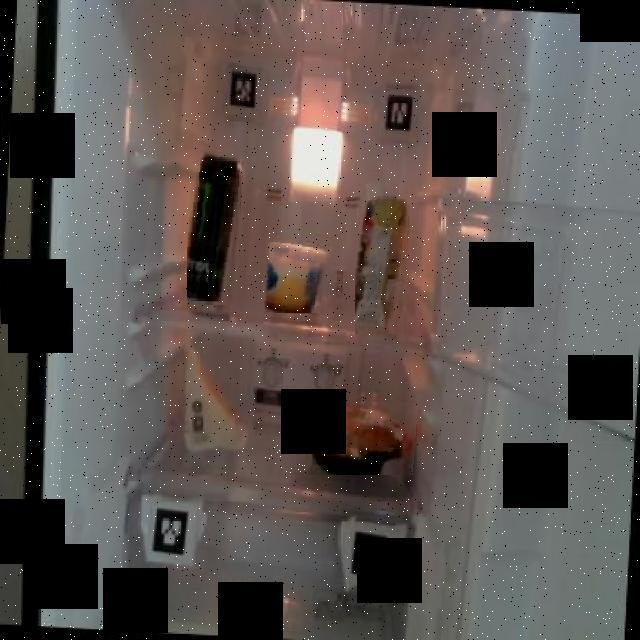bento: (290, 390, 418, 475)
energy_drink: (187, 149, 244, 305)
pudding: (263, 232, 331, 313)
sandwich: (176, 326, 256, 456)
smoothie: (355, 176, 411, 336)
